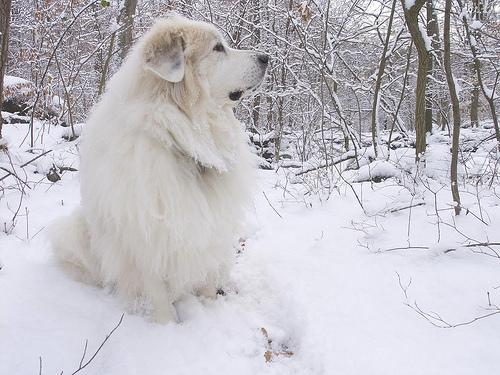Great_Pyrenees: (49, 18, 270, 324)
